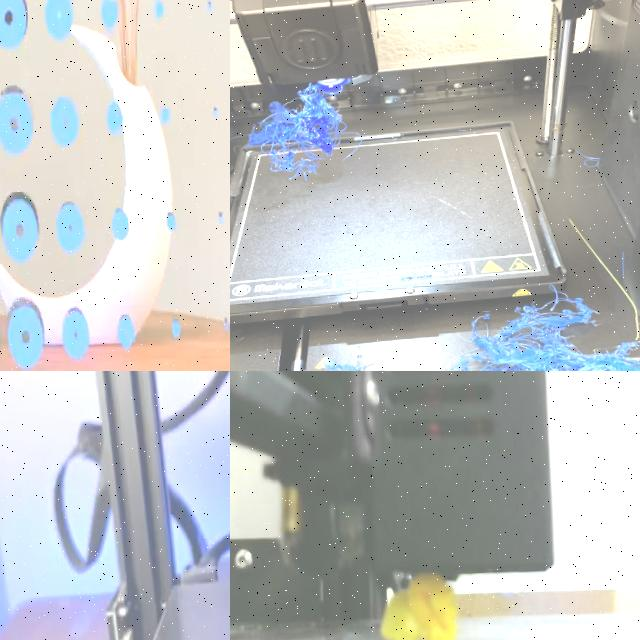spaghetti: (443, 299, 640, 371), (245, 81, 360, 180), (380, 574, 456, 640)
